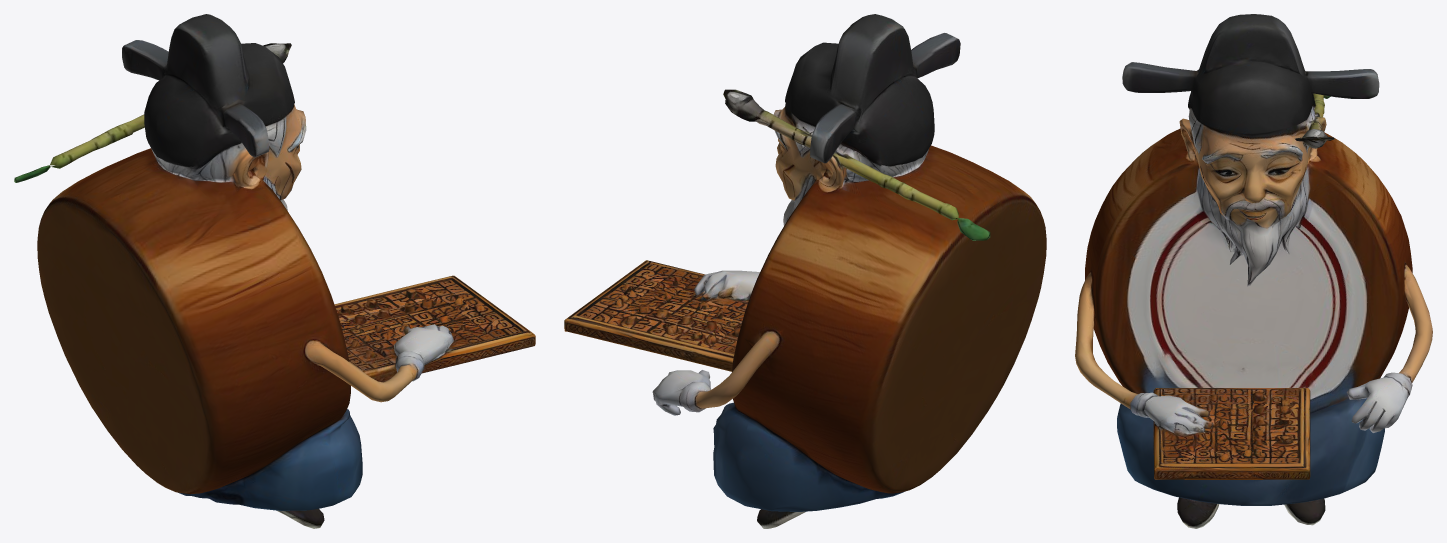
The model's file is c_wudai.glb.
The picture shows the model from 3 angles, left to right: view 1: azimuth 30°, elevation 25°; view 2: azimuth 150°, elevation 25°; view 3: azimuth 270°, elevation 25°; orthographic projection. The views are drawn at different scales.
Visible parts, largest first — view 1: tripo_node_45ce320d-6ef4-4d1b-adf3-4897508a0679; view 2: tripo_node_45ce320d-6ef4-4d1b-adf3-4897508a0679; view 3: tripo_node_45ce320d-6ef4-4d1b-adf3-4897508a0679.
Boxes of the visible parts, x1,y1,x2,y2 form: tripo_node_45ce320d-6ef4-4d1b-adf3-4897508a0679: [14, 14, 535, 528]; tripo_node_45ce320d-6ef4-4d1b-adf3-4897508a0679: [564, 14, 1046, 528]; tripo_node_45ce320d-6ef4-4d1b-adf3-4897508a0679: [1075, 14, 1432, 528].
Size of the model in its own units: 0.9038 by 1 by 0.6846.
Materials: 1 (1 with a texture image).
